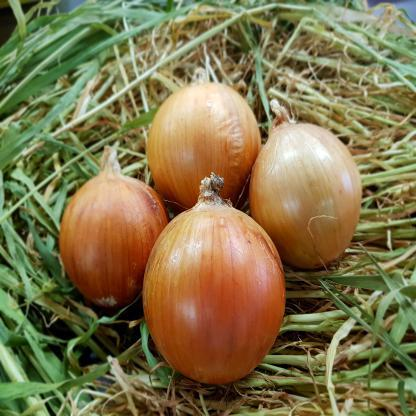onion: (122, 195, 292, 378), (250, 123, 354, 257), (67, 181, 186, 297), (154, 79, 262, 202)
